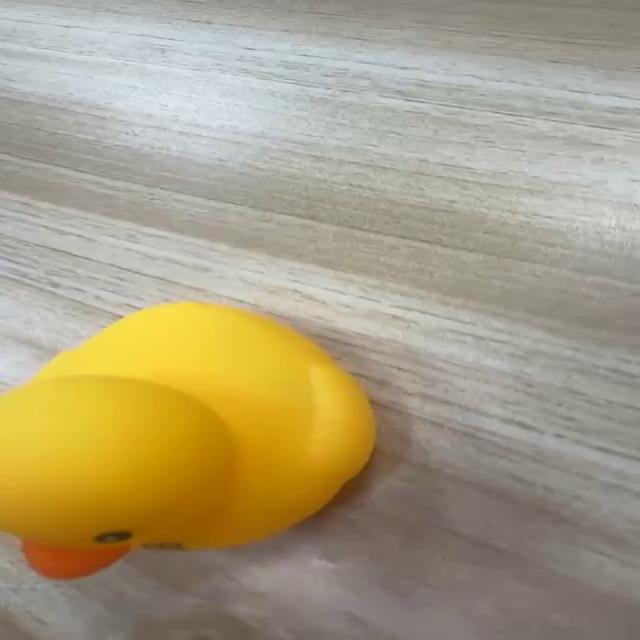yellow_duck: (1, 299, 377, 580)
